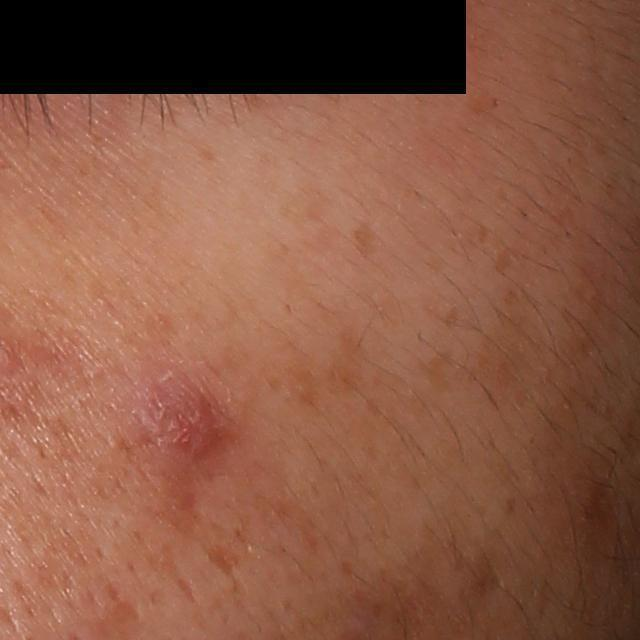papule: (149, 377, 229, 462)
